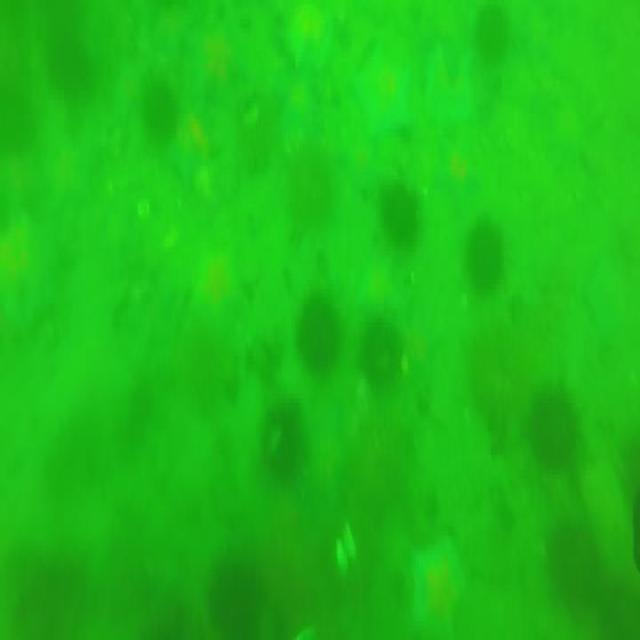echinus: (537, 512, 606, 612), (519, 389, 575, 469), (463, 216, 509, 298), (47, 21, 94, 101), (297, 289, 340, 376), (211, 561, 262, 632), (356, 317, 406, 388), (376, 179, 420, 248), (139, 76, 177, 139), (278, 406, 310, 477), (471, 11, 513, 63), (6, 82, 30, 161)
scallop: (334, 522, 356, 572)
starfish: (183, 240, 253, 351), (412, 540, 466, 640)
